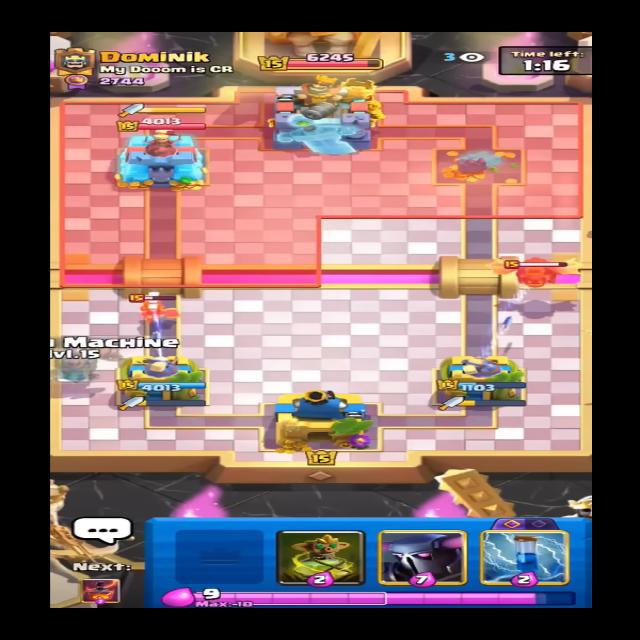Lavahound: (486, 248, 579, 286)
Valk: (123, 290, 183, 325)
